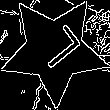L_SW: (26, 22, 83, 78)
